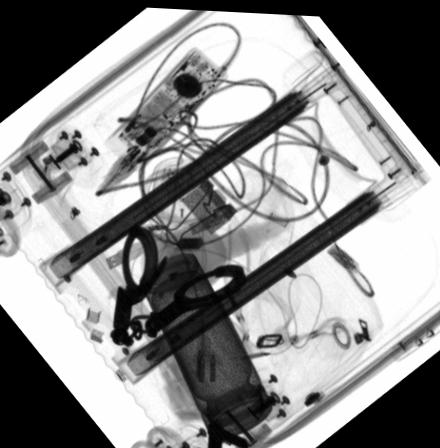Gun: (206, 417, 246, 448)
HandCuffs: (107, 222, 244, 344)
